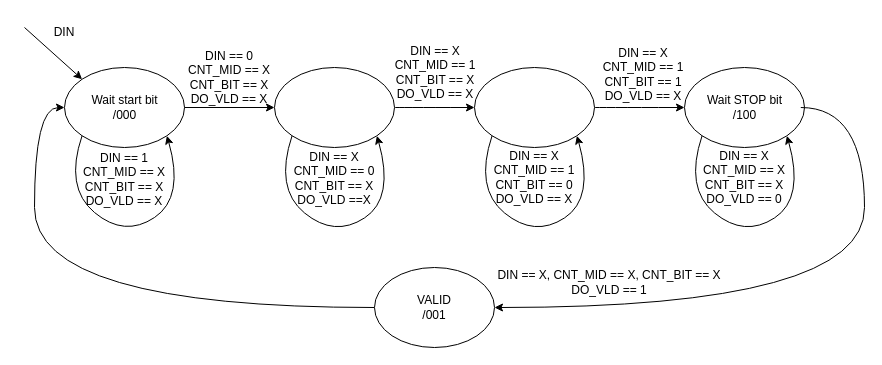
Image size: 882x365. Some labels were removed from this diagram. Each missing label, with the centre of its shape:
"Count to MID /100" belongs at [334,107].
"Process data /110" belongs at [534,107].
